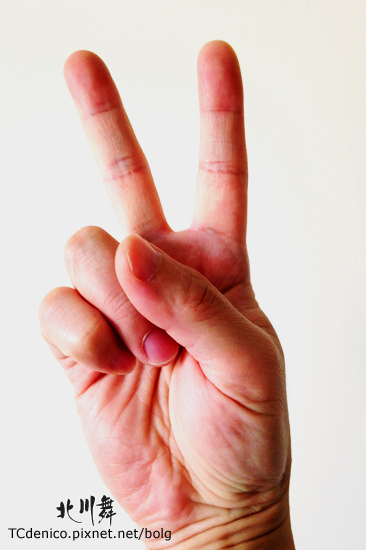v_s: (37, 38, 295, 532)
